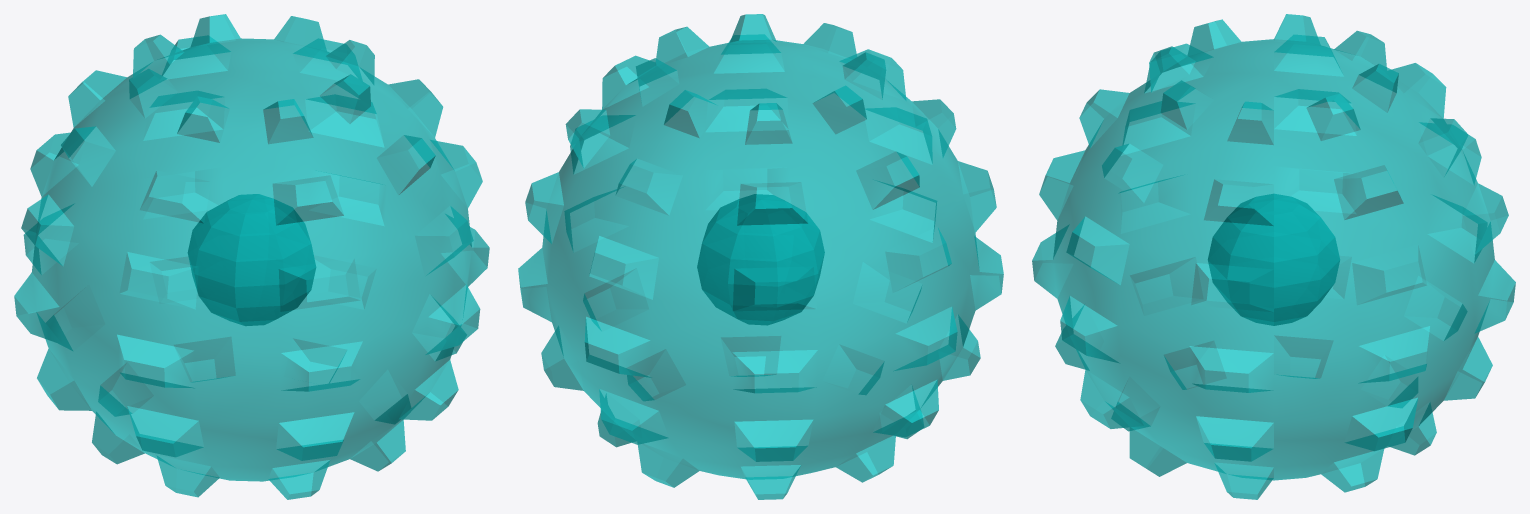
Rendered from toy_ball.fbx.
The picture shows the model from 3 angles, left to right: view 1: azimuth 30°, elevation 25°; view 2: azimuth 150°, elevation 25°; view 3: azimuth 270°, elevation 25°; orthographic projection.
Visible parts, largest first — view 1: pSphere2, pSphere1; view 2: pSphere2, pSphere1; view 3: pSphere2, pSphere1.
Boxes of the visible parts, box(x1,y1,x2,y2) form: pSphere2: box(14, 14, 489, 499); pSphere1: box(187, 194, 316, 325); pSphere2: box(518, 14, 1003, 499); pSphere1: box(697, 194, 824, 325); pSphere2: box(1032, 14, 1515, 499); pSphere1: box(1208, 193, 1339, 325).
Size of the model in its own units: 21.9 by 20.06 by 21.9.
